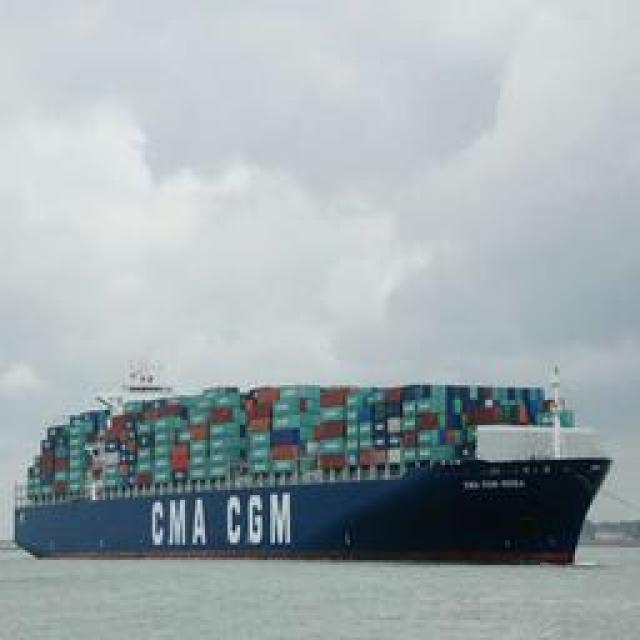ship2: (14, 356, 613, 566)
